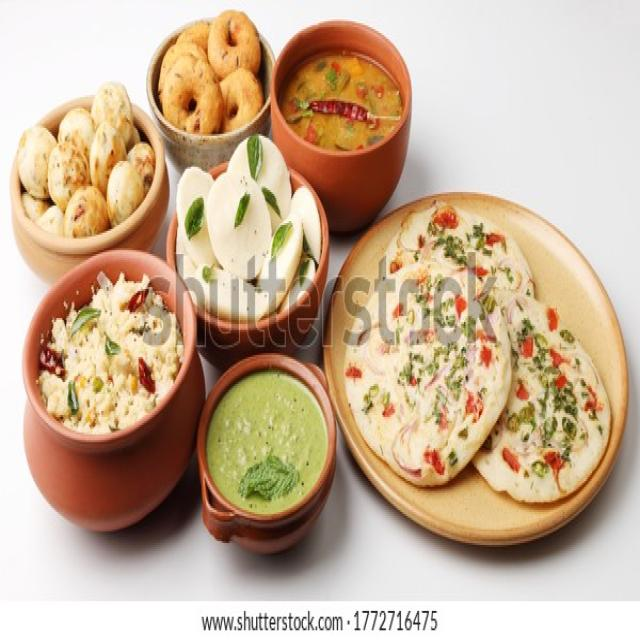IDLI: (206, 169, 269, 275), (177, 167, 217, 266), (228, 136, 289, 198), (268, 213, 304, 283), (291, 186, 319, 262)
MEDU VADA: (159, 54, 222, 134), (208, 12, 259, 78), (221, 68, 261, 130), (176, 21, 210, 52)
UPMA: (38, 275, 183, 432)
